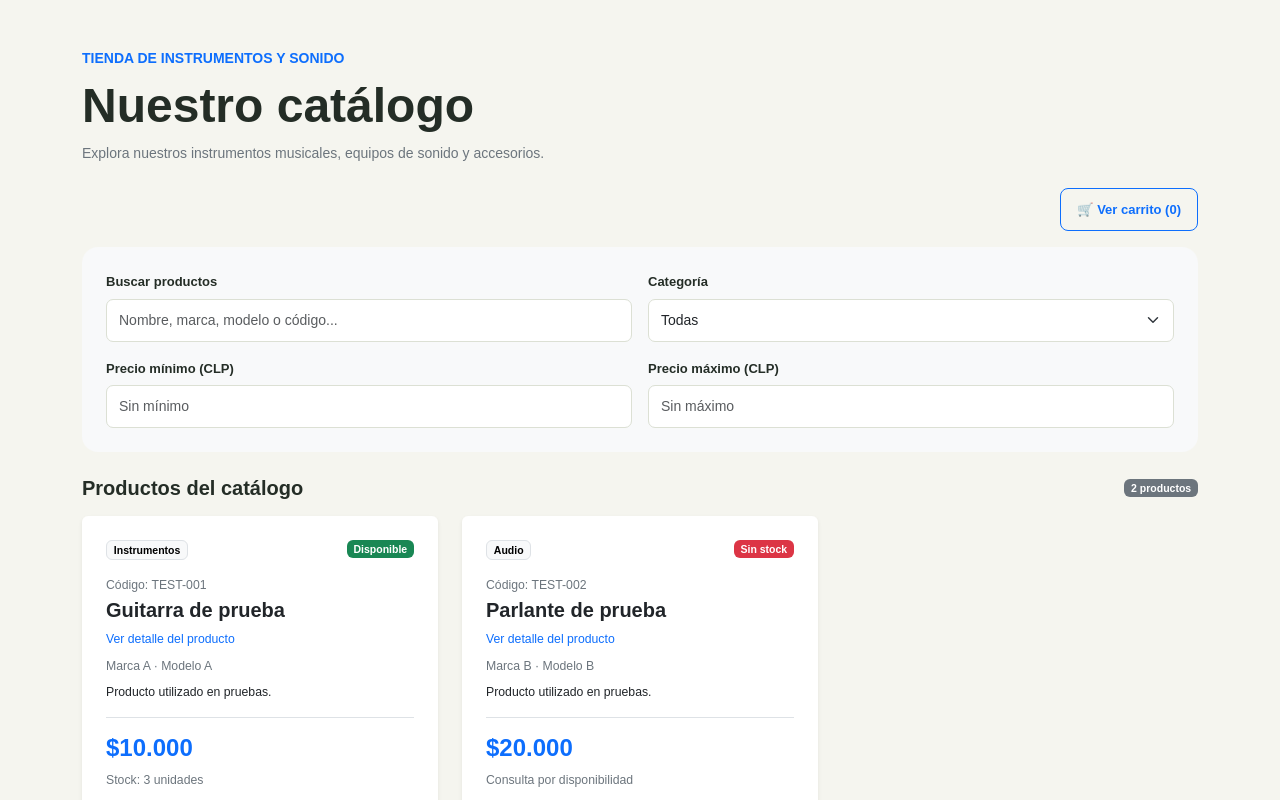
Test case: CatalogoPage › avisa si el precio mínimo supera al precio máximo
Type "25000" into the number field labelled "Precio mínimo (CLP)".
click(369, 407); type("25000")  # box [106,385,632,428]
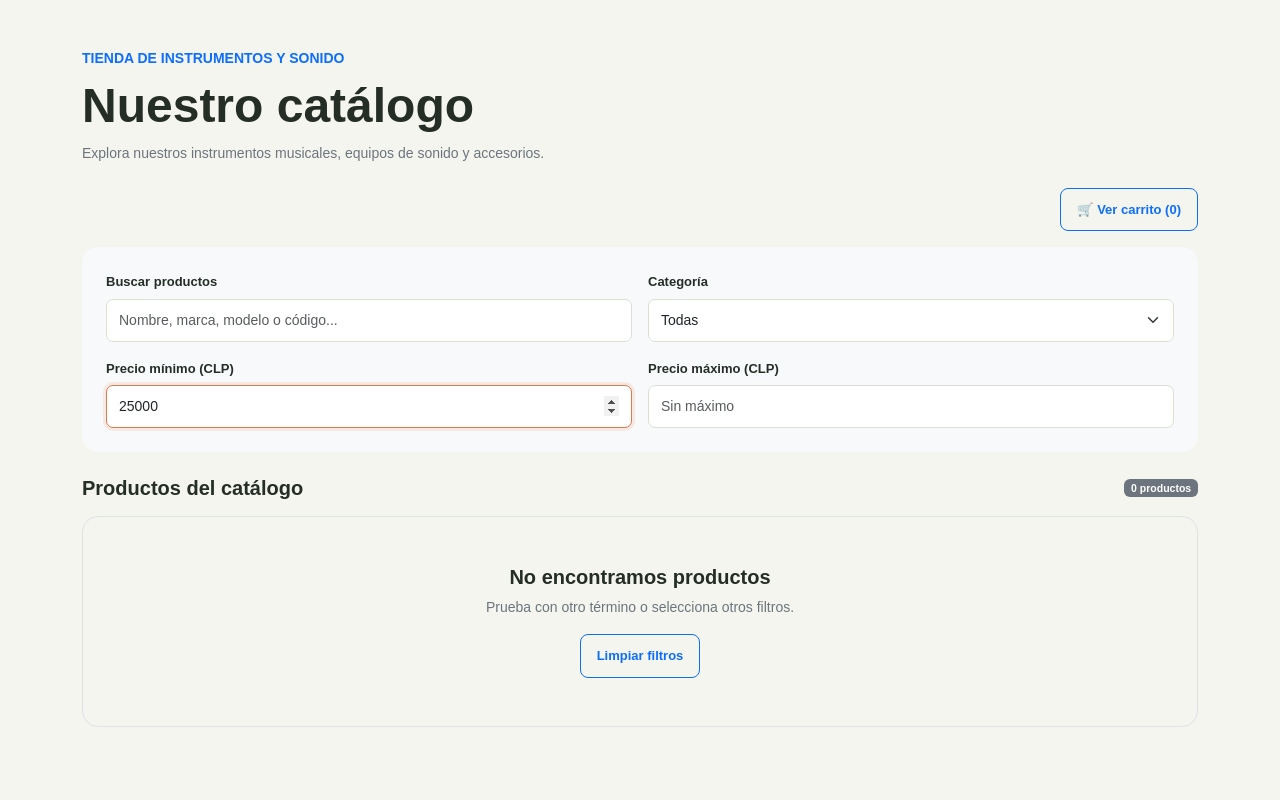
Type "10000" into the number field labelled "Precio máximo (CLP)".
click(911, 407); type("10000")  # box [648,385,1174,428]
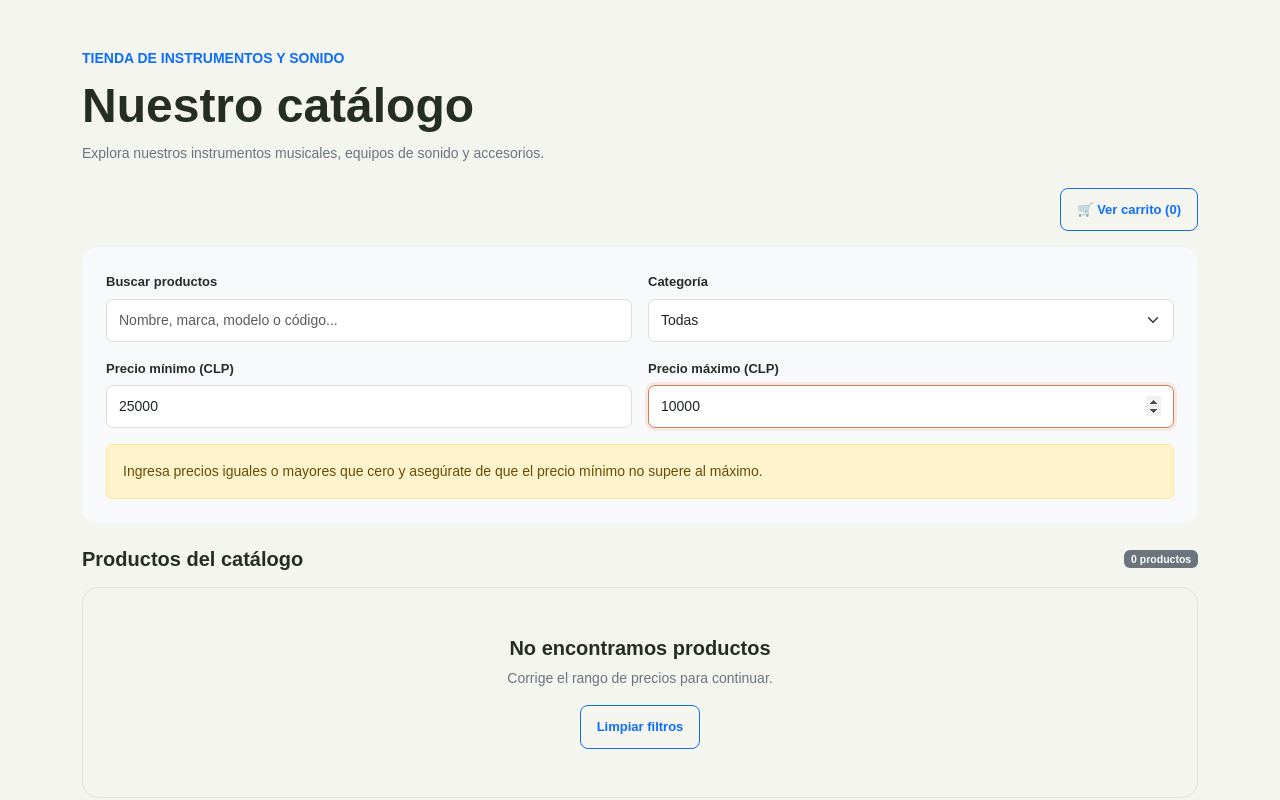
expect the heading "No encontramos productos" is shown: met, box [509,637,770,659]
expect the message shows "el precio mínimo no supere al máximo": met, box [123,463,763,479]
